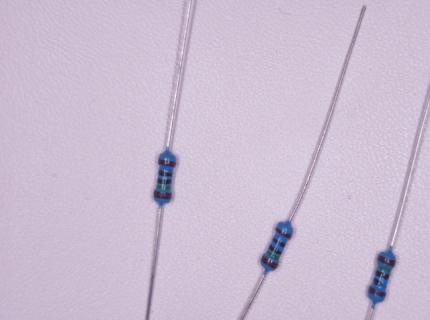Black band: (268, 244, 283, 256), (372, 278, 387, 289), (272, 237, 286, 248), (375, 270, 390, 280), (159, 170, 173, 177), (157, 178, 172, 184)
Brown band: (260, 256, 278, 270), (367, 286, 387, 298), (378, 255, 396, 267), (275, 227, 292, 239), (158, 159, 176, 168), (154, 191, 172, 200)
Green band: (266, 251, 280, 261), (378, 265, 391, 273), (157, 185, 171, 190)
